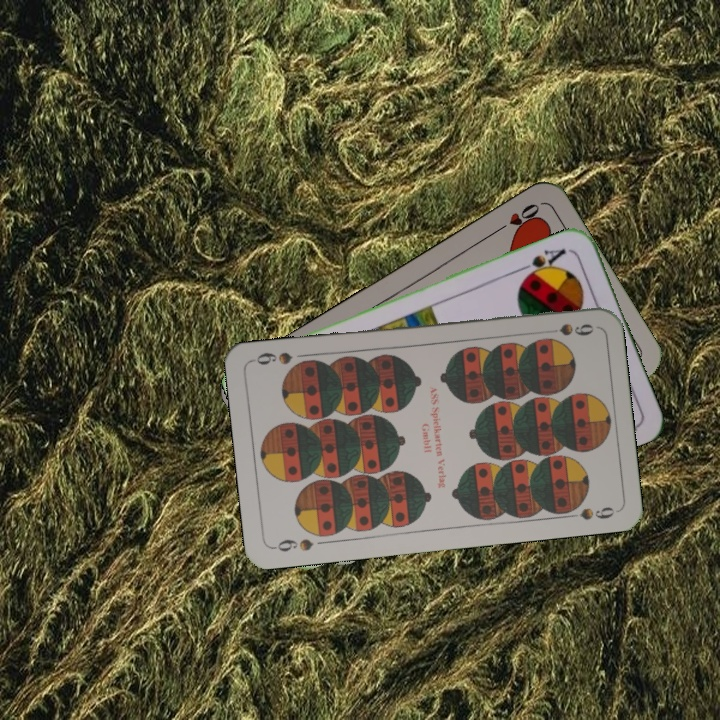HO: (489, 199, 543, 237)
S9: (538, 319, 596, 338), (269, 534, 316, 554)
SA: (515, 244, 569, 282)
